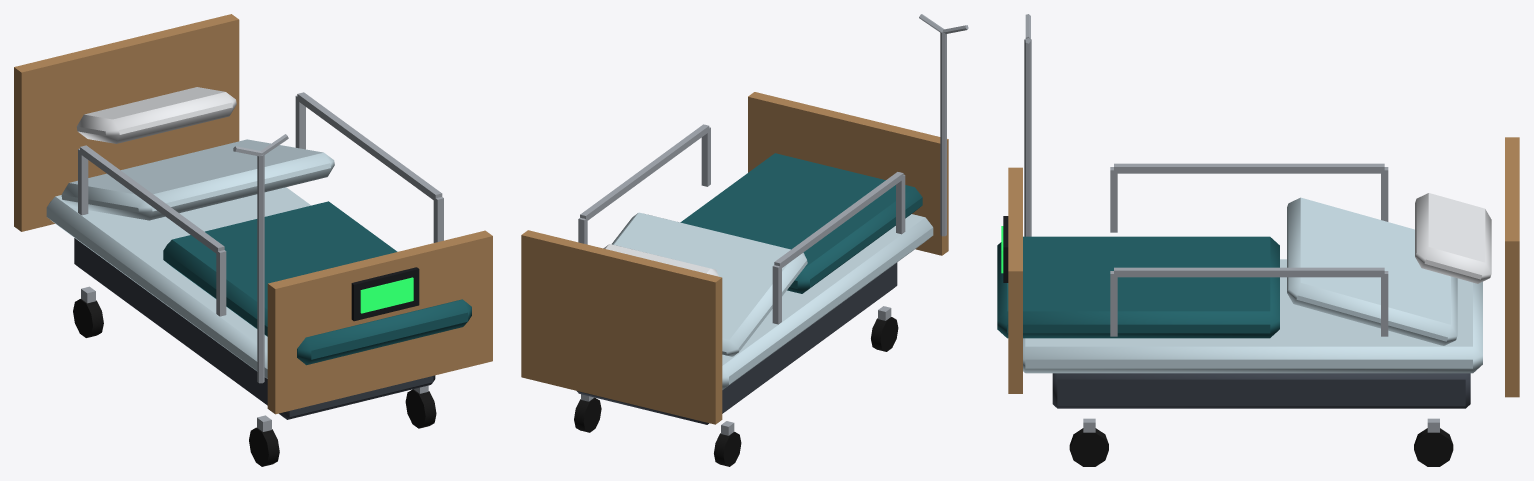
File: medbed_recovery_bed.glb
The picture shows the model from 3 angles, left to right: view 1: azimuth 30°, elevation 25°; view 2: azimuth 150°, elevation 25°; view 3: azimuth 270°, elevation 25°; orthographic projection. The views are drawn at different scales.
Visible parts, largest first — view 1: medbed_recovery_bed; view 2: medbed_recovery_bed; view 3: medbed_recovery_bed.
Part boxes in pixels (bbox=[...]): medbed_recovery_bed: bbox=[14, 14, 492, 466]; medbed_recovery_bed: bbox=[521, 14, 968, 466]; medbed_recovery_bed: bbox=[997, 14, 1519, 466].
Size of the model in its own units: 1.16 by 1.56 by 2.12.
